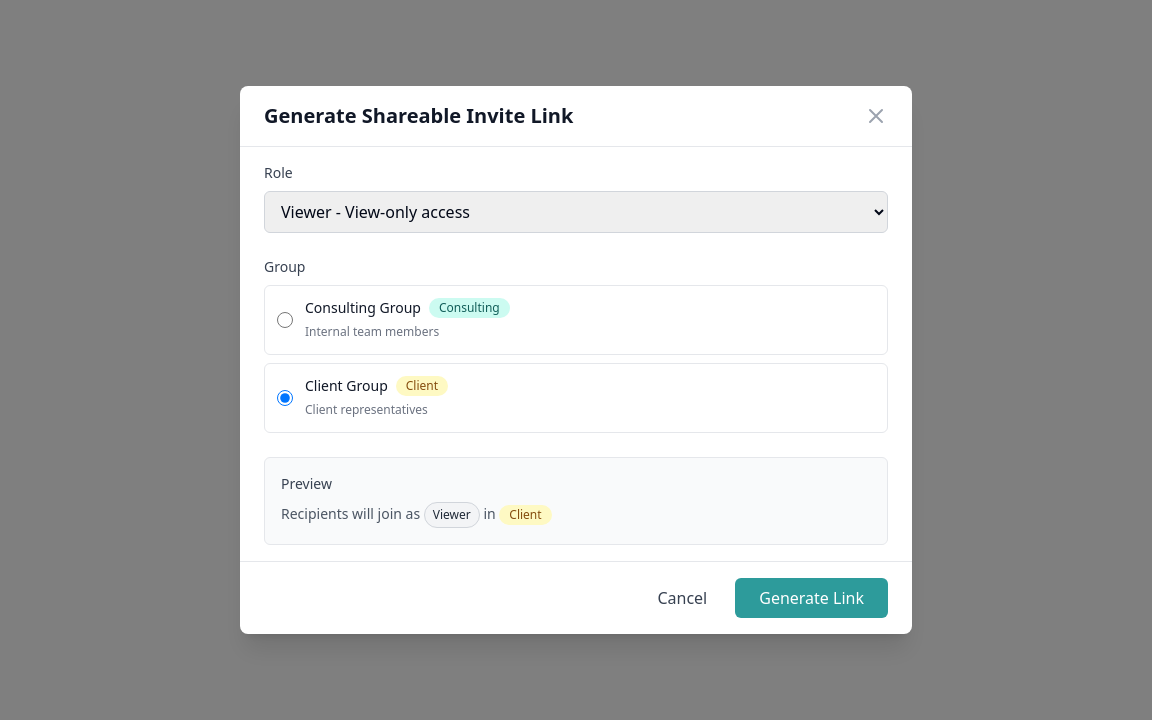
Test: GenerateLinkModal › should show link details after generation
The width and height of the screenshot is (1152, 720).
Click the button with test id "generate-button".
click(812, 598)  # box [735, 578, 888, 618]
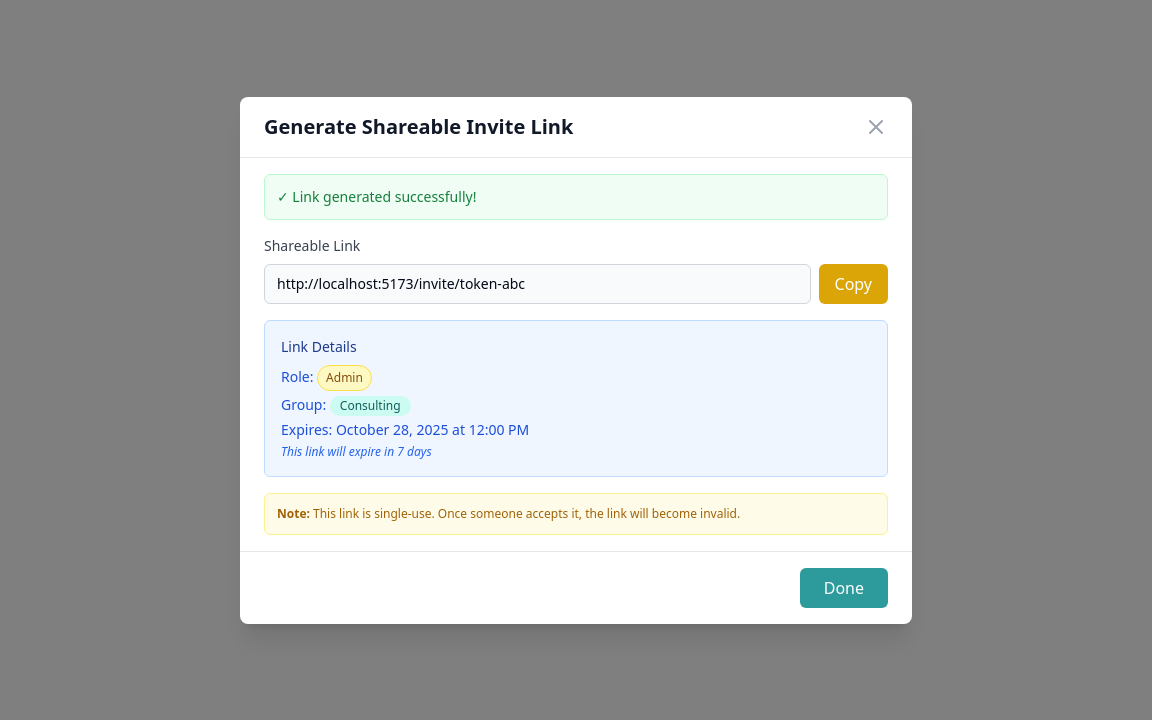
expect the text "Link Details" is shown: met, box [281, 336, 357, 356]
expect the text "Expires:" is shown: met, box [281, 420, 332, 438]
expect the text "This link will expire in 7 days" is shown: met, box [281, 442, 432, 460]
